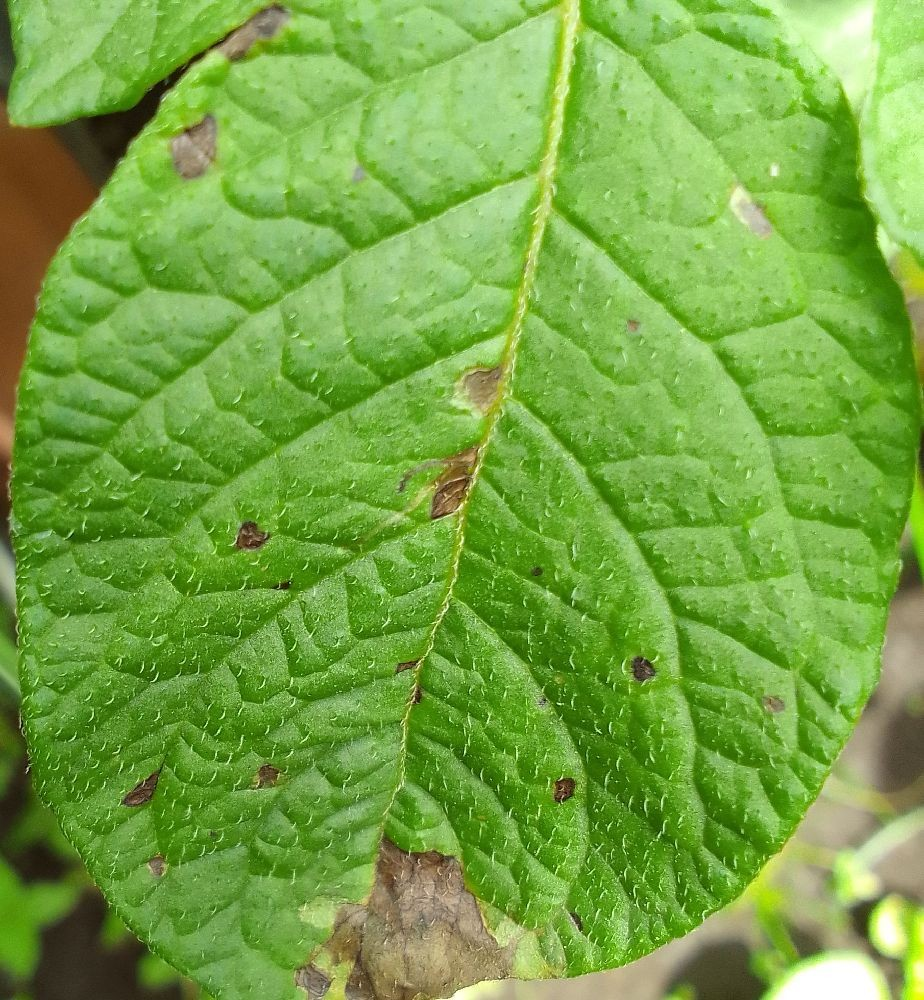late_blight: (278, 821, 777, 999), (0, 659, 236, 1000), (814, 528, 924, 841), (865, 819, 924, 912)
